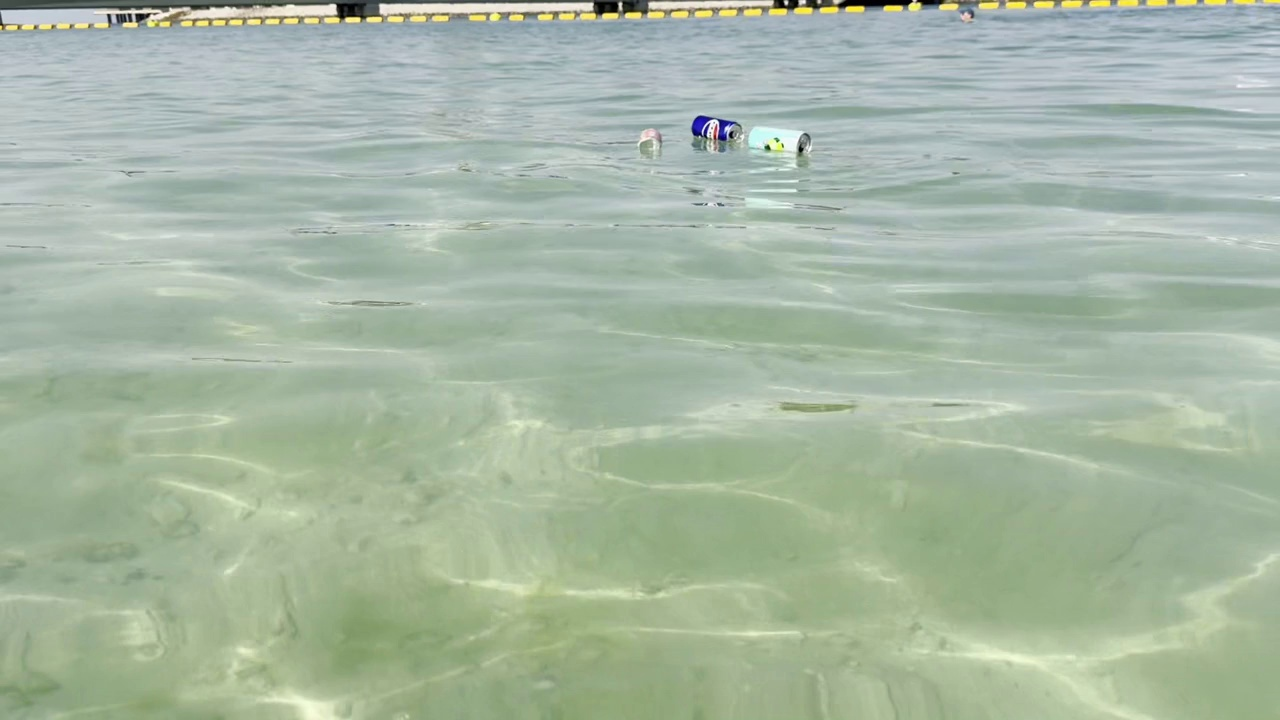debris: (740, 119, 817, 160), (687, 111, 744, 151), (635, 126, 667, 158)
